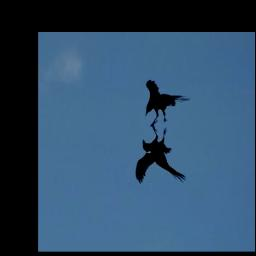Crow: (135, 123, 188, 185)
